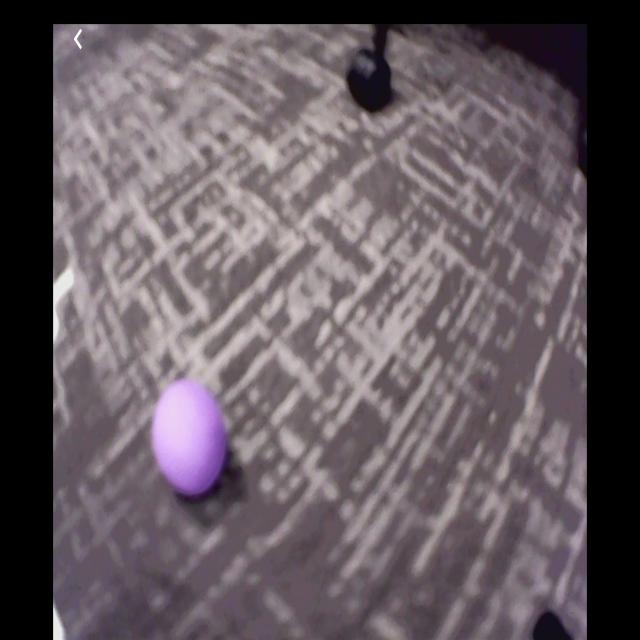ball: (154, 382, 230, 500)
